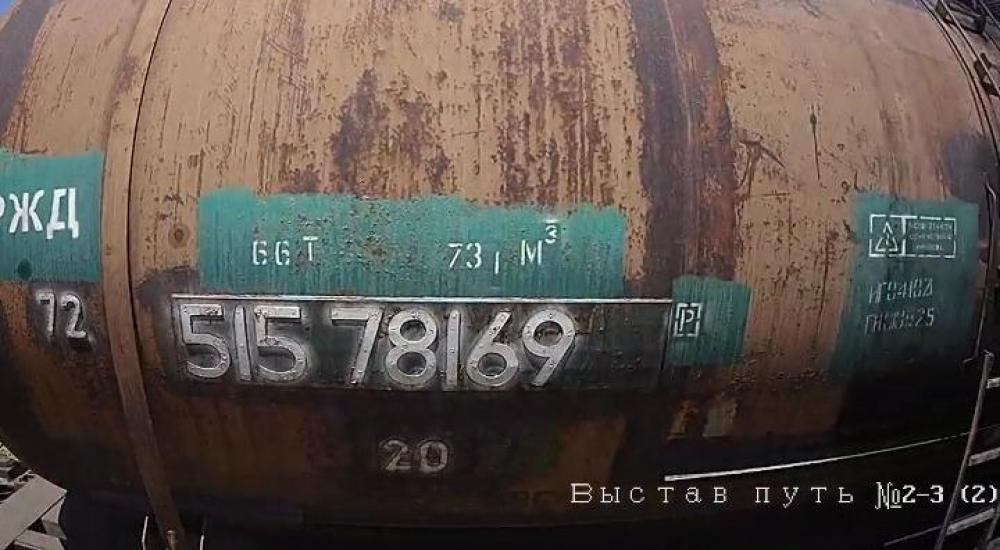Wagon-number: (173, 297, 584, 395)
